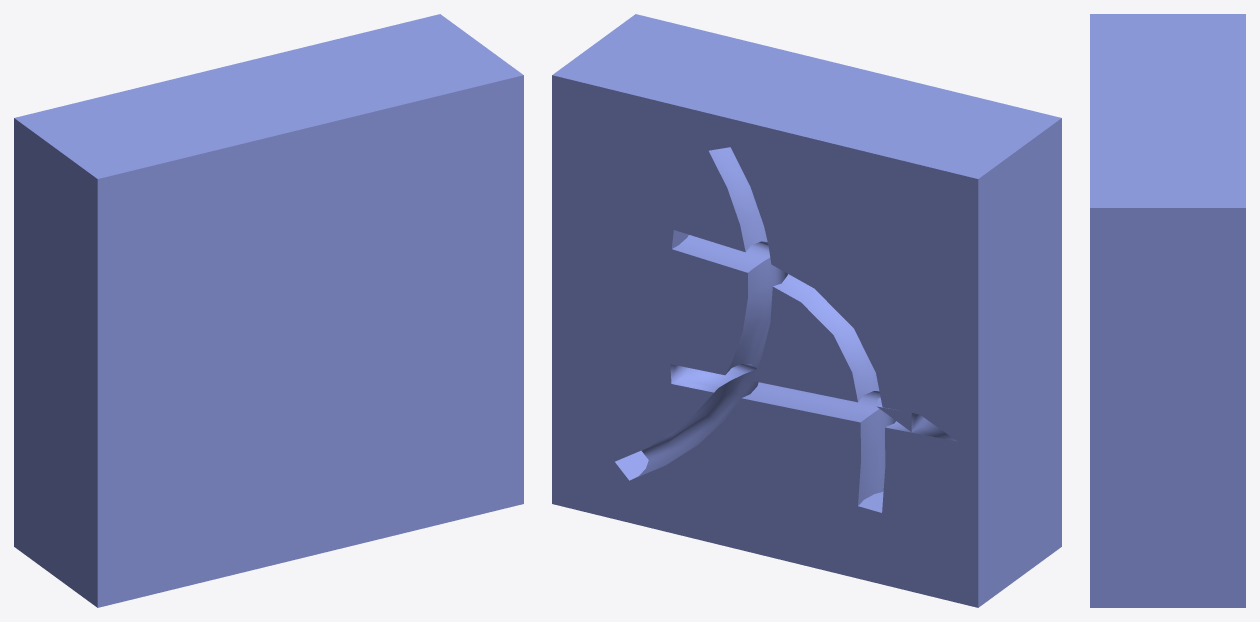
File: FYP_TempleTrapCorridor_CodeBTN2.FBX
3 views of the same model, side by side, from view 1: azimuth 30°, elevation 25°; view 2: azimuth 150°, elevation 25°; view 3: azimuth 270°, elevation 25° (orthographic). The views are drawn at different scales.
Visible parts, largest first — view 1: 2ndBox; view 2: 2ndBox; view 3: 2ndBox.
Boxes of the visible parts, x1,y1,x2,y2 form: 2ndBox: [14, 14, 523, 607]; 2ndBox: [552, 14, 1061, 607]; 2ndBox: [1090, 14, 1245, 607].
Size of the model in its own units: 2.6 by 2.5 by 0.8832.
